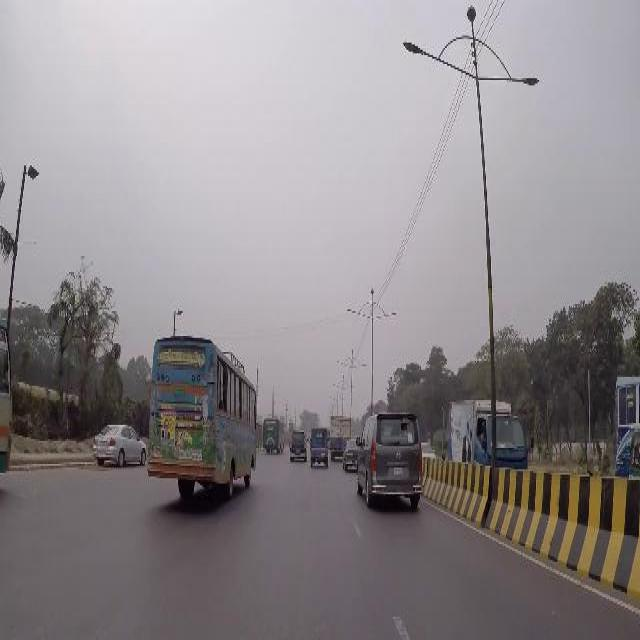vehicle: (148, 335, 259, 499), (357, 412, 426, 508), (448, 399, 534, 472), (92, 423, 148, 469), (330, 416, 352, 462), (262, 415, 286, 456), (311, 425, 330, 469), (290, 429, 309, 465), (343, 438, 361, 472)
